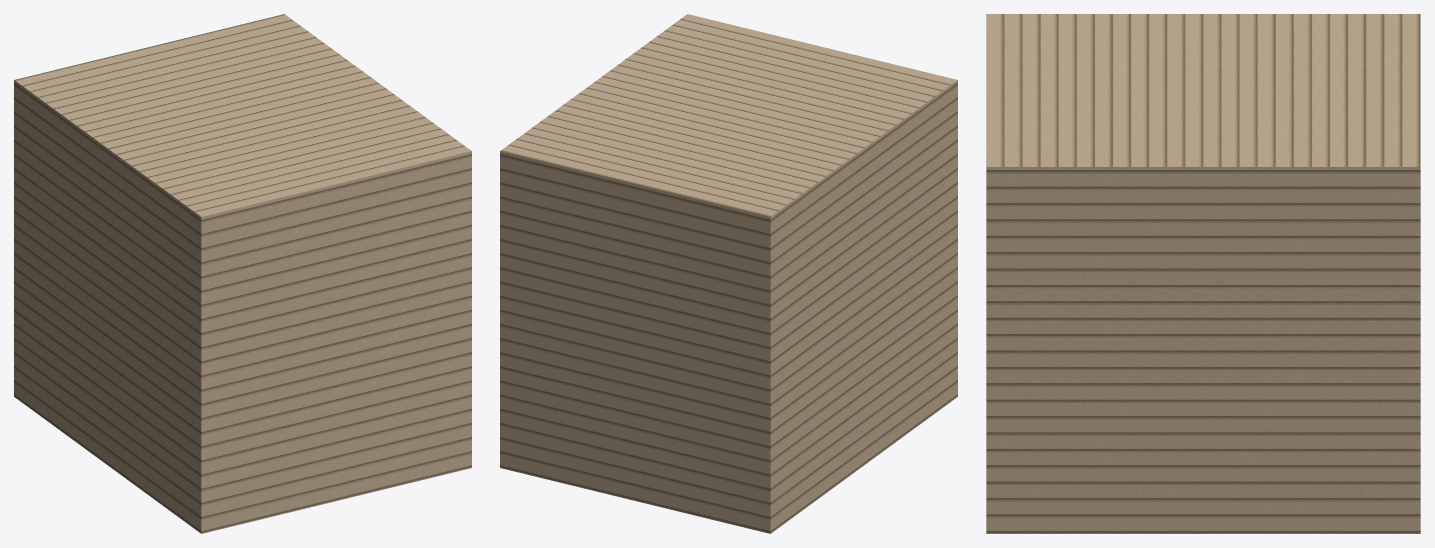
Rendered from mausoleum_family_scale.glb.
The picture shows the model from 3 angles, left to right: view 1: azimuth 30°, elevation 25°; view 2: azimuth 150°, elevation 25°; view 3: azimuth 270°, elevation 25°; orthographic projection. The views are drawn at different scales.
Parts seen in each view (by area): view 1: mausoleum_family_scale-col; view 2: mausoleum_family_scale-col; view 3: mausoleum_family_scale-col.
Part boxes in pixels (x1,y1,x2,y2): mausoleum_family_scale-col: [14, 14, 471, 533]; mausoleum_family_scale-col: [500, 14, 957, 533]; mausoleum_family_scale-col: [986, 14, 1420, 533].
Bounding box in the file's own units: 2.5 × 2.8 × 3.
1 material, 1 textured.
